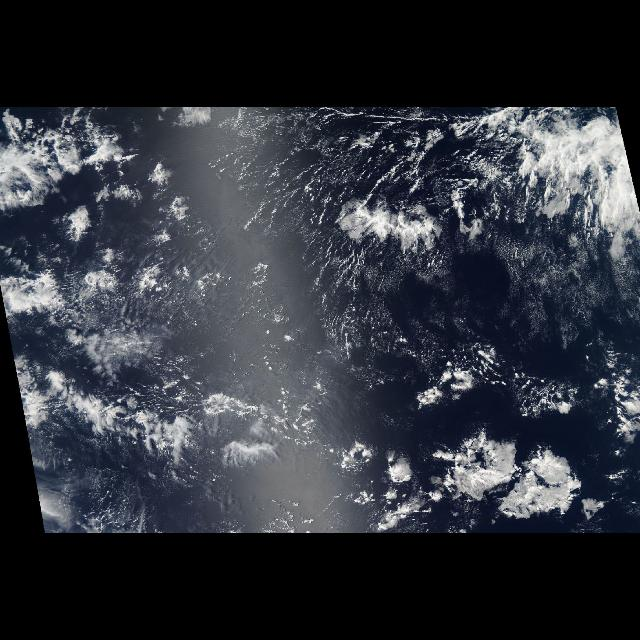Flower: (326, 364, 618, 534), (42, 160, 216, 300)
Gravel: (208, 142, 520, 232)
